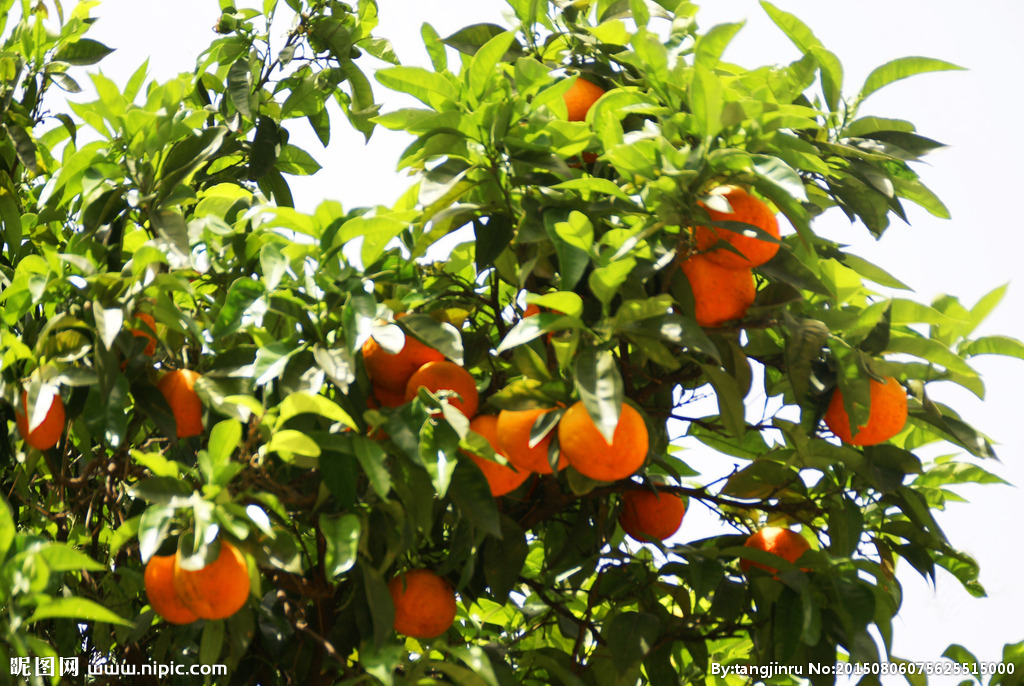orange: (695, 186, 784, 274), (558, 398, 645, 484), (173, 529, 251, 621), (820, 368, 909, 445), (669, 251, 760, 324), (459, 409, 531, 497), (495, 390, 566, 473), (357, 326, 446, 389), (379, 567, 456, 639), (143, 540, 204, 626), (402, 363, 478, 425), (616, 478, 687, 543), (737, 526, 811, 587), (14, 373, 67, 454), (156, 367, 211, 438), (542, 75, 605, 136)
